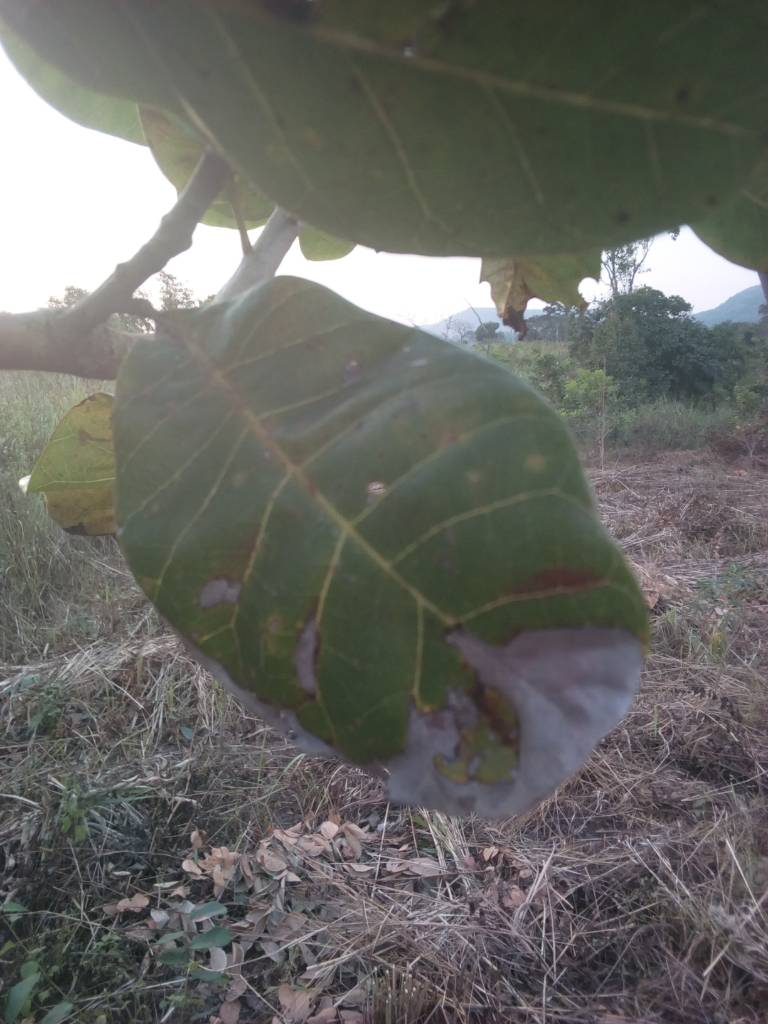Anthracnose: (119, 302, 654, 817)
